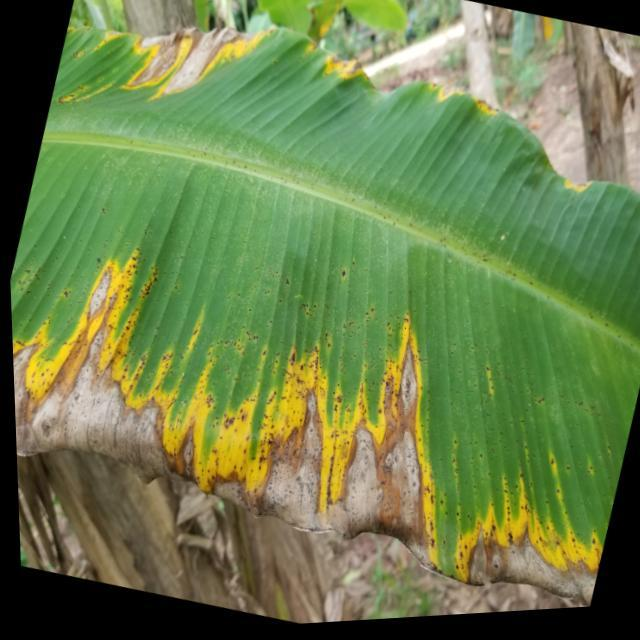Early_rust: (0, 182, 634, 640), (26, 0, 573, 175)
